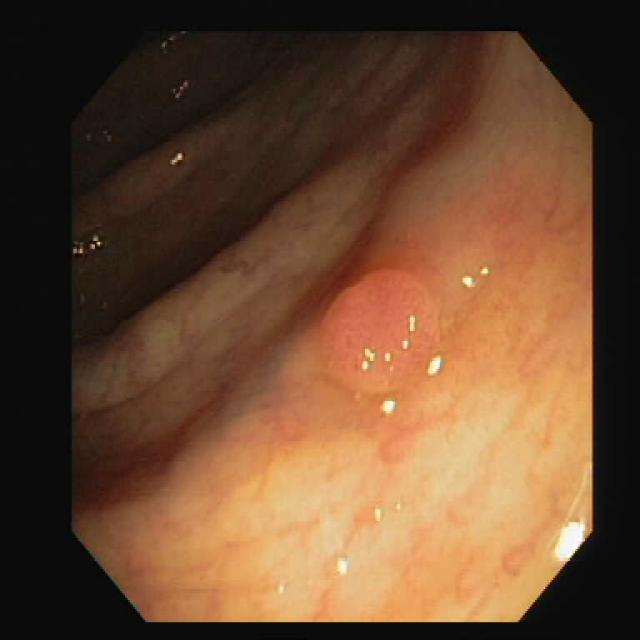tumor: (322, 271, 437, 387)
